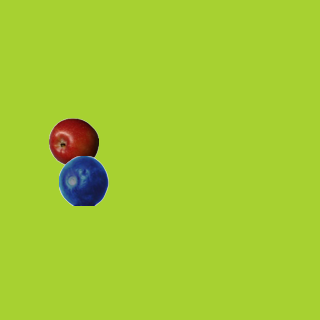Apple Braeburn: (48, 117, 98, 167)
Huckleberry: (58, 155, 108, 205)
